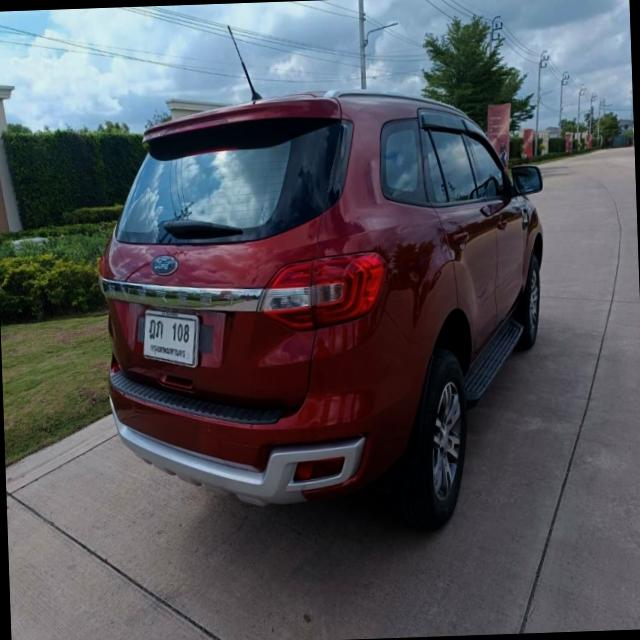license_plate: (140, 306, 200, 368)
